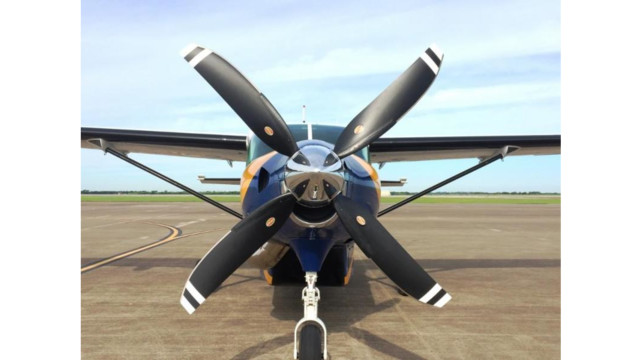Propeller: (185, 48, 463, 317)
